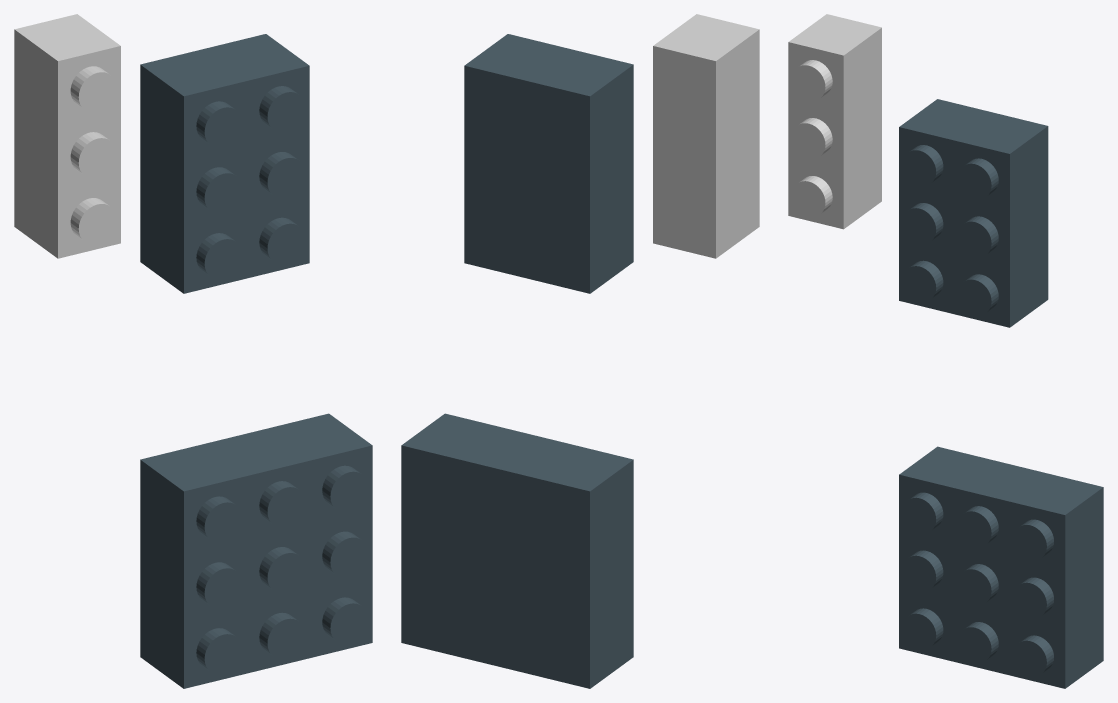
File: current.glb
3 renders of one model, left to right at view 1: azimuth 30°, elevation 25°; view 2: azimuth 150°, elevation 25°; view 3: azimuth 330°, elevation 25°, orthographic. The views are drawn at different scales.
Visible parts, largest first — view 1: world; view 2: world; view 3: world.
Boxes of the visible parts, <box> form: world: <box>14,14,372,688</box>; world: <box>401,14,759,688</box>; world: <box>788,14,1103,688</box>.
Size of the model in its own units: 40 by 80 by 11.4.
